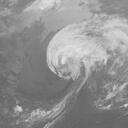cyclone: (46, 23, 100, 81)
